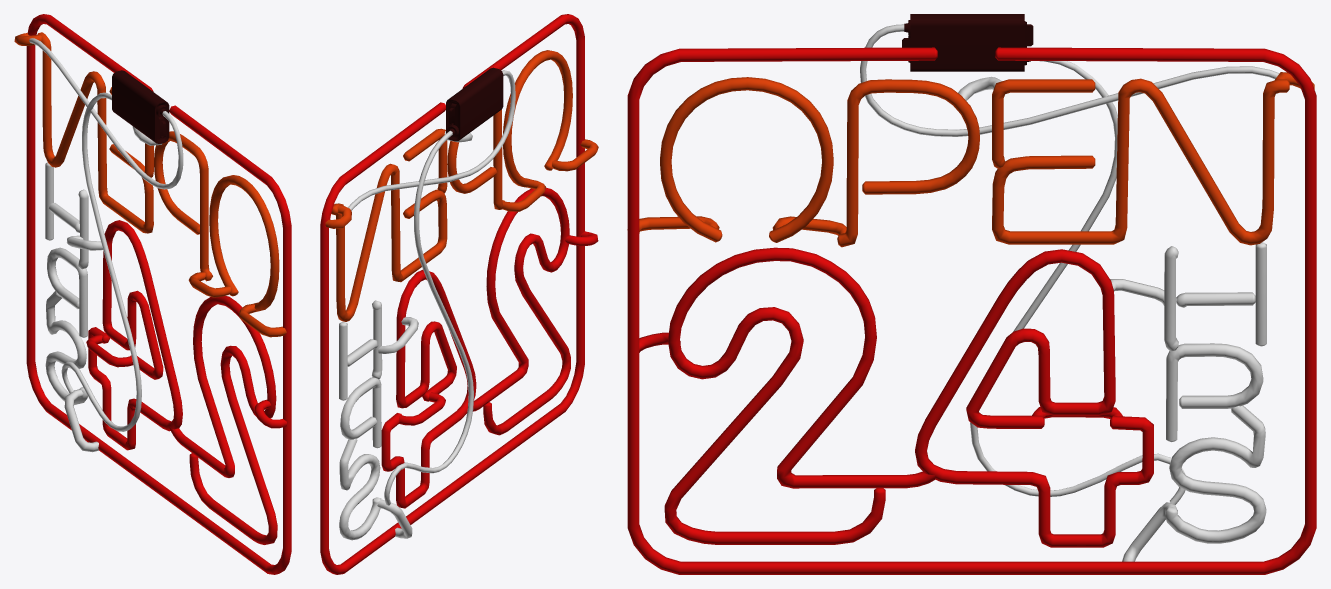
File: uploads_files_867191_cgtrader_optimized_sign_neon_24h.fbx
The picture shows the model from 3 angles, left to right: view 1: azimuth 30°, elevation 25°; view 2: azimuth 150°, elevation 25°; view 3: azimuth 270°, elevation 25°; orthographic projection. The views are drawn at different scales.
Parts seen in each view (by area): view 1: sign_neon_24h; view 2: sign_neon_24h; view 3: sign_neon_24h.
Boxes of the visible parts, bbox=[...] form: sign_neon_24h: bbox=[14, 14, 291, 574]; sign_neon_24h: bbox=[320, 14, 598, 574]; sign_neon_24h: bbox=[627, 14, 1316, 574].
Size of the model in its own units: 0.0499 by 0.6098 by 0.6993.
